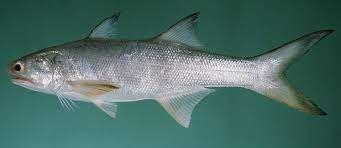Fourfinger Threadfish: (6, 11, 335, 128)
